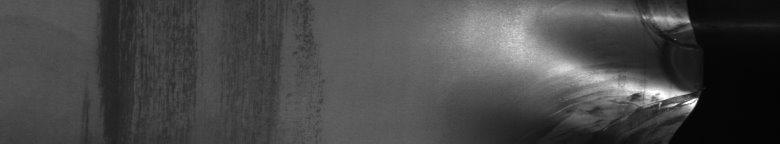ke: (554, 4, 648, 136)
